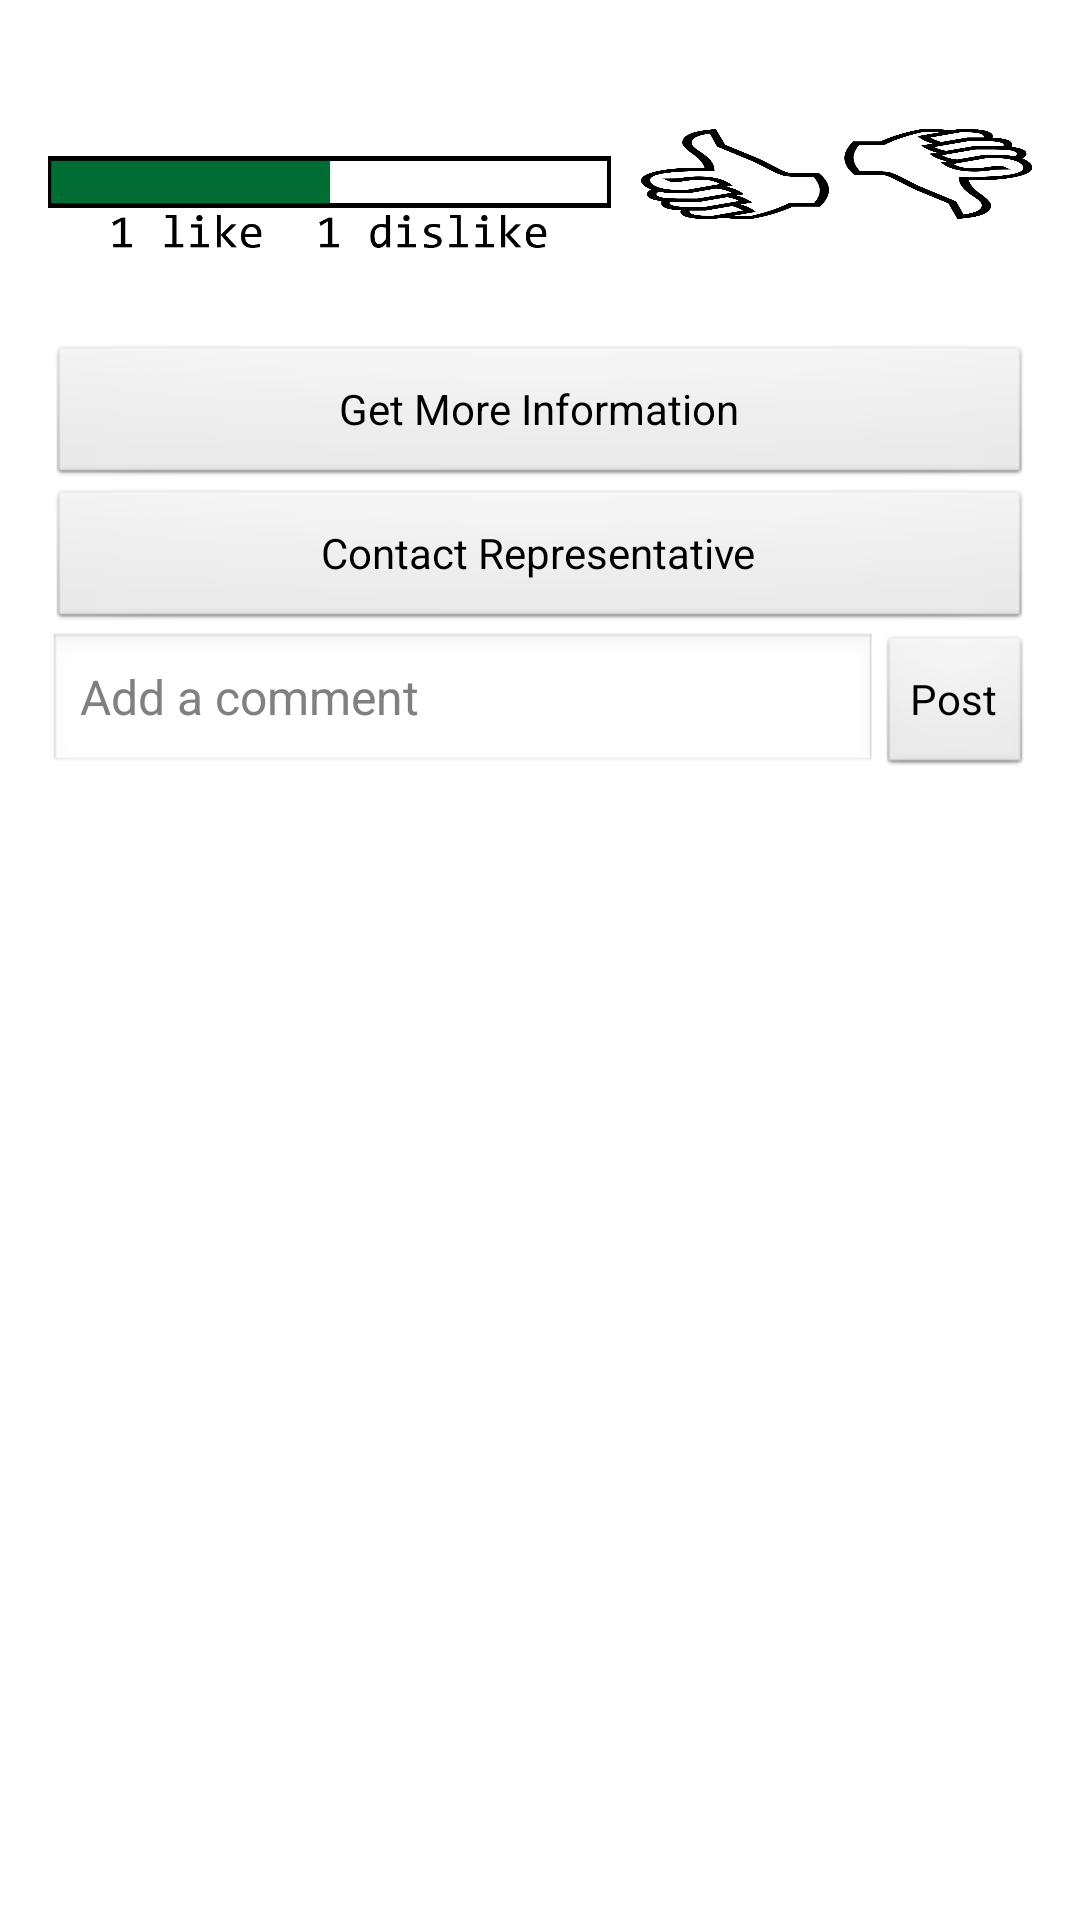

Point at icon controls on the screen. Image size 1080×1920, points as point (x, y).
thumbs down blk: point (938, 174)
thumbs up blk: point (735, 174)
